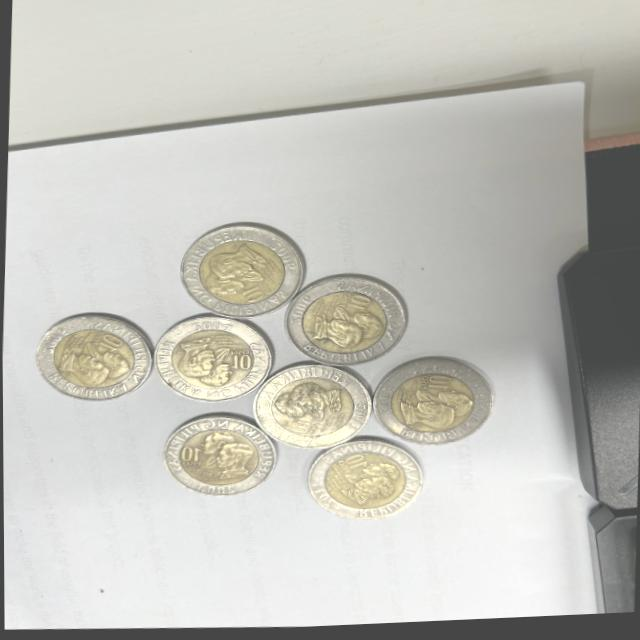10_Old_Front: (342, 296, 371, 315), (96, 333, 122, 351), (238, 286, 263, 304), (424, 374, 449, 392), (176, 446, 201, 463), (343, 455, 365, 473), (287, 418, 310, 435), (226, 355, 250, 371)
